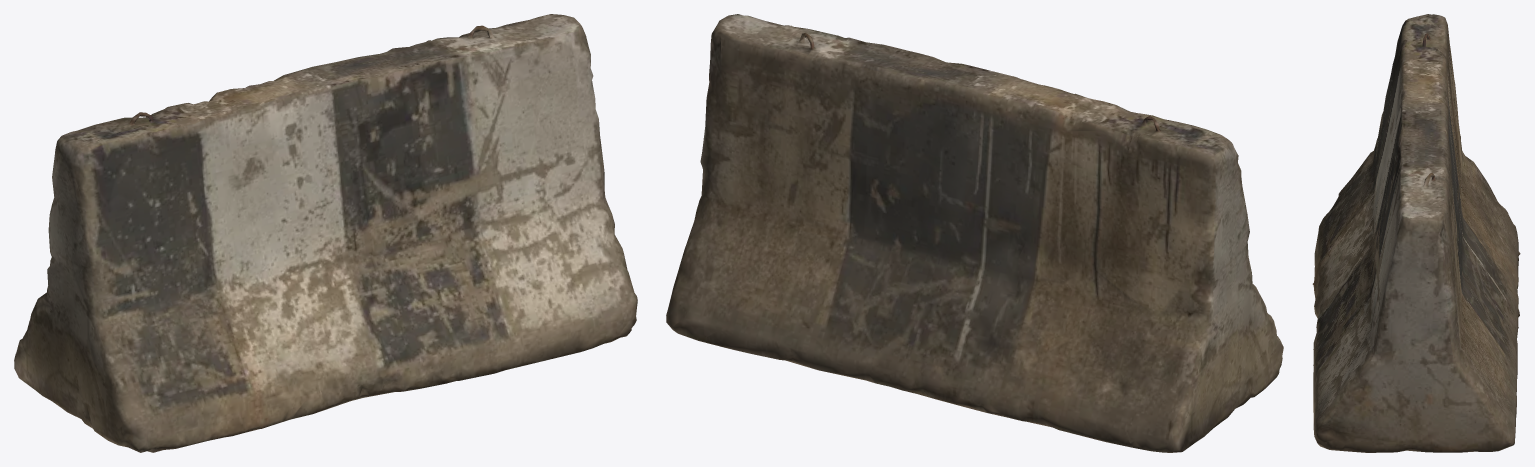
Rendered from concrete_road_barrier.glb.
3 views of the same model, side by side, from view 1: azimuth 30°, elevation 25°; view 2: azimuth 150°, elevation 25°; view 3: azimuth 270°, elevation 25° (orthographic). The views are drawn at different scales.
Parts seen in each view (by area): view 1: concrete_road_barrier; view 2: concrete_road_barrier; view 3: concrete_road_barrier.
Boxes of the visible parts, x1,y1,x2,y2 form: concrete_road_barrier: [14, 14, 637, 452]; concrete_road_barrier: [666, 14, 1283, 452]; concrete_road_barrier: [1312, 14, 1520, 452].
Bounding box in the file's own units: 1.54 × 0.8304 × 0.6388.
Materials: 1 (1 with a texture image).
